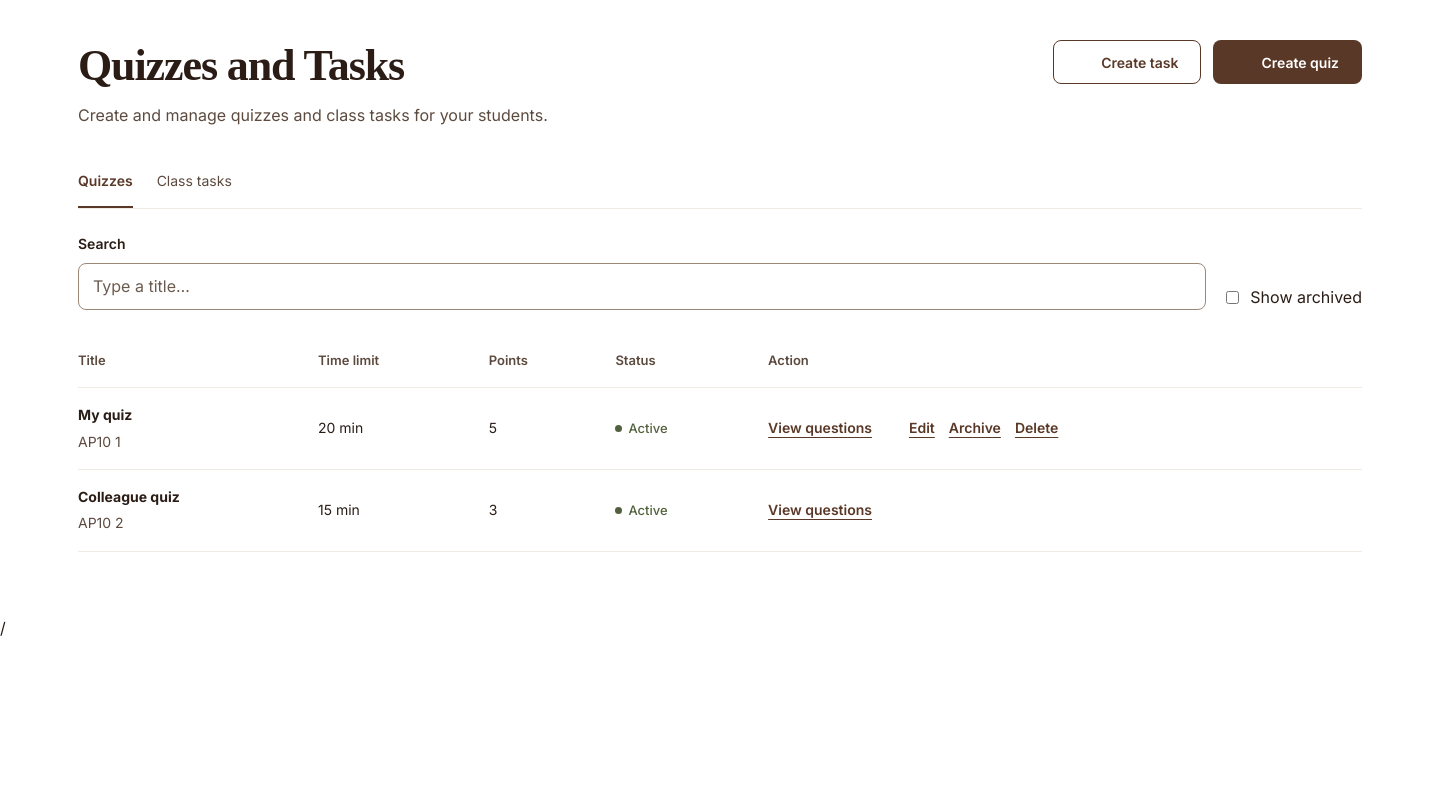
Test: AssessmentsPage › offers to delete submissions too when a task has ungraded work
Expected: the text "My quiz" is shown, [78, 406, 132, 423]
Click the button "Class tasks" at (194,184), box [157, 160, 232, 208]
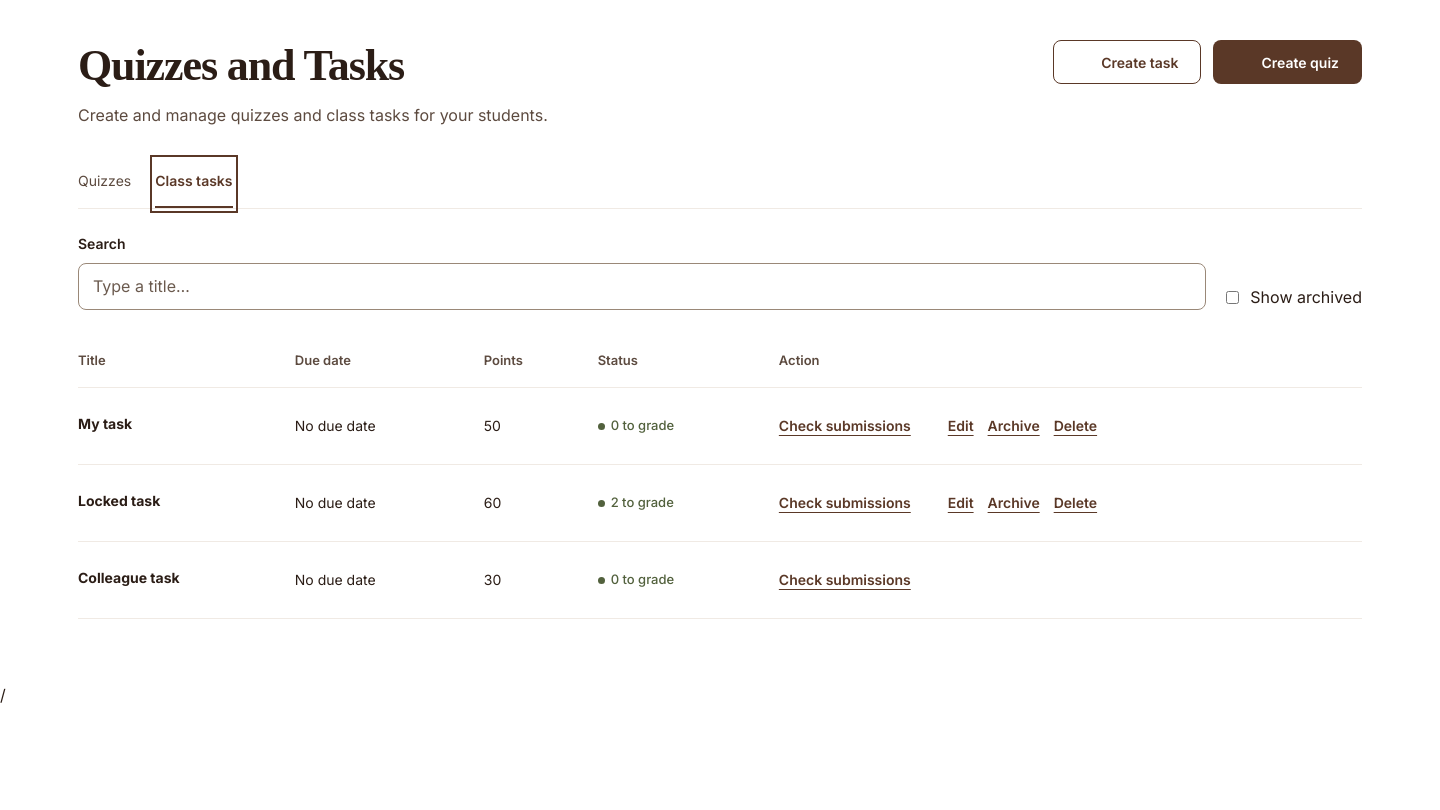
Click the button "Delete" in the row of "Locked task" at (1075,503), box [1054, 481, 1097, 525]
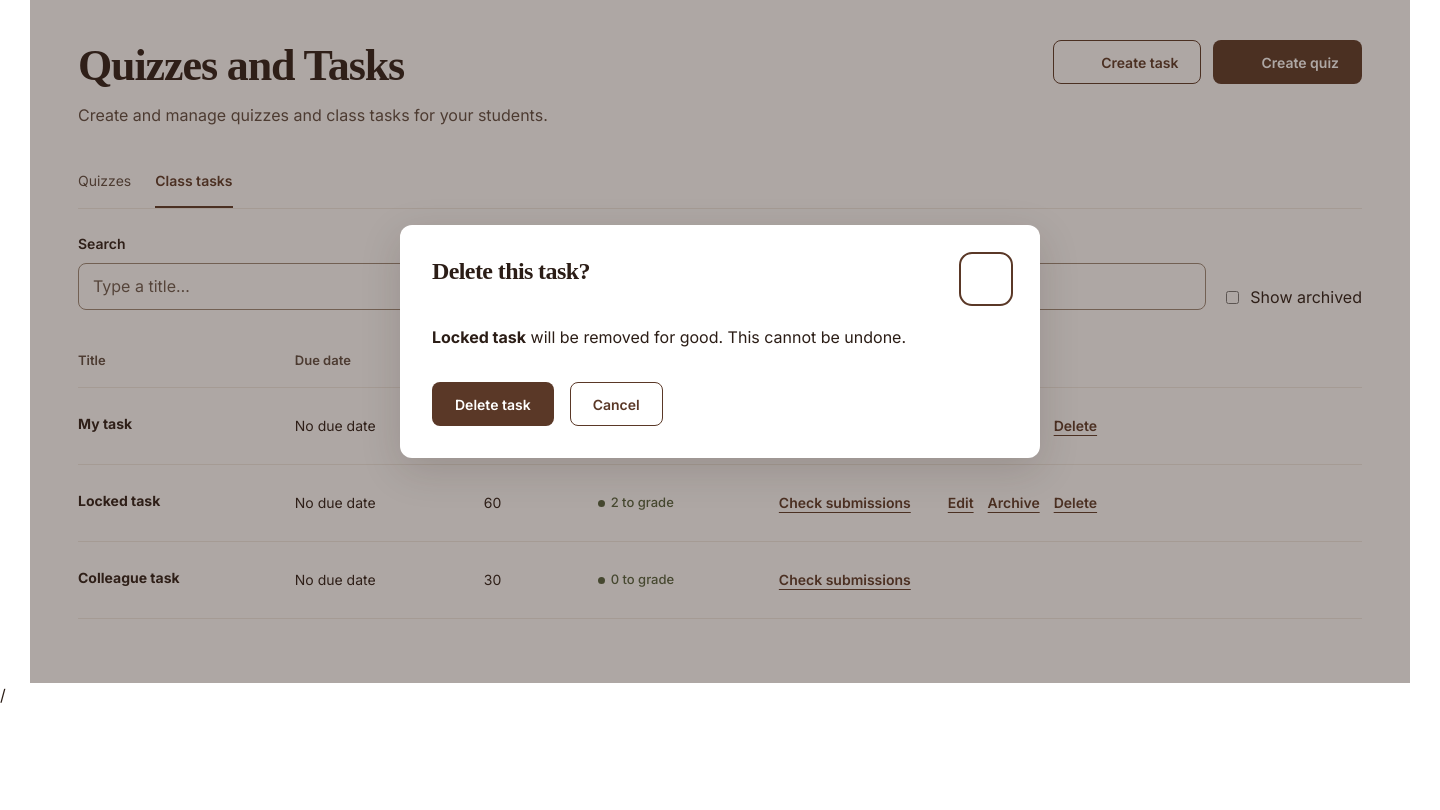
Click the button "Delete task" at (493,404), box [432, 382, 554, 426]
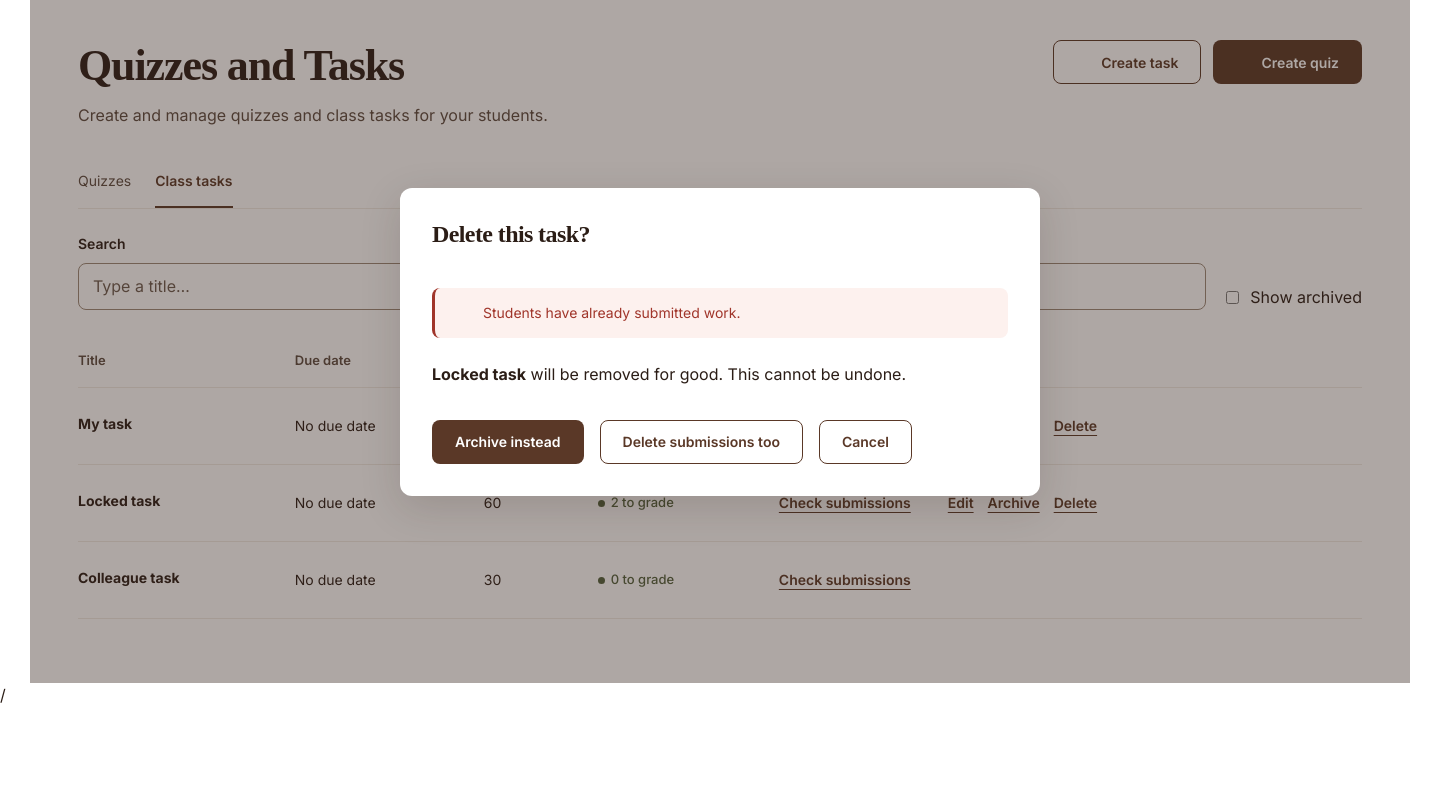
Click the button "Delete submissions too" at (701,442), box [600, 420, 803, 464]
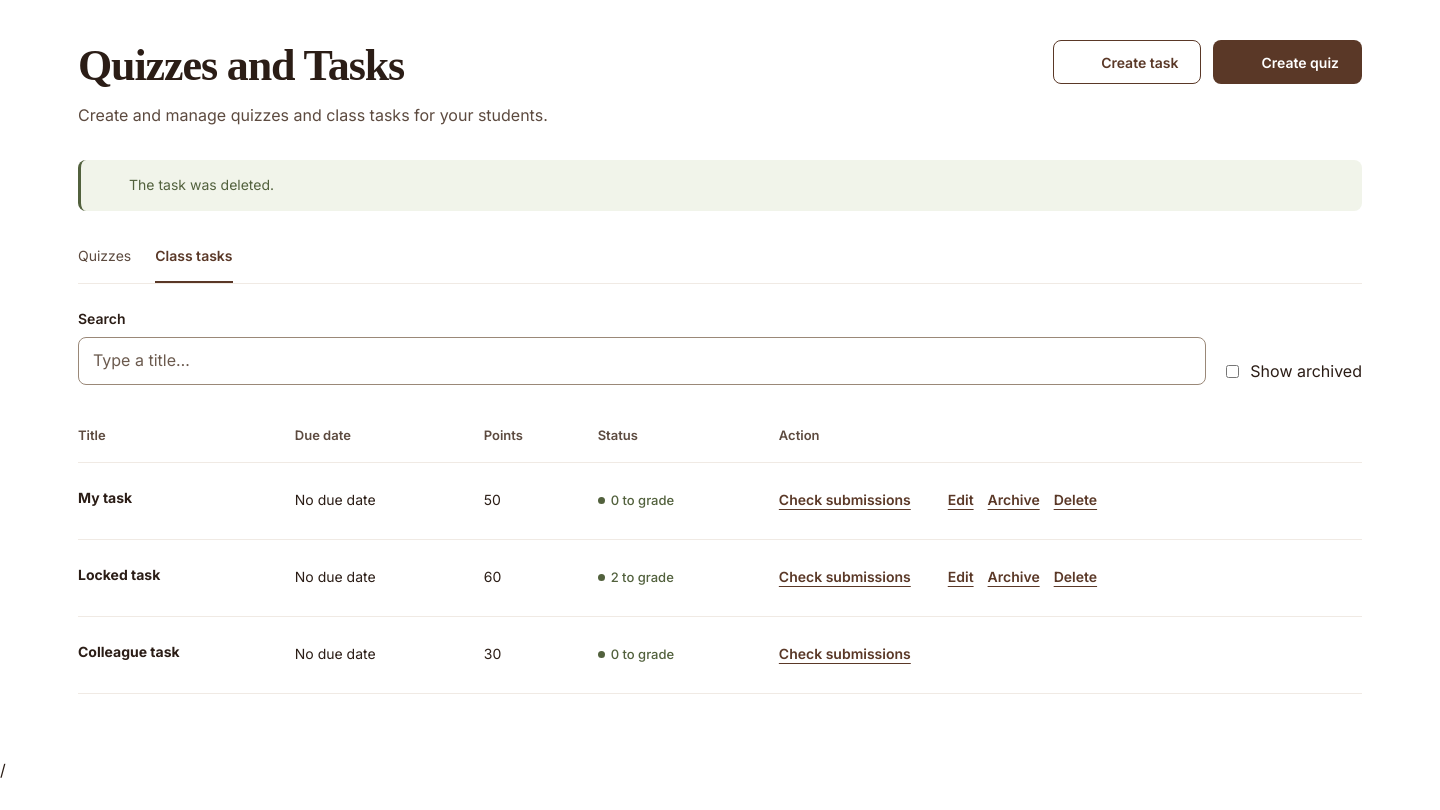
Expected: the text "The task was deleted." is shown, [129, 174, 274, 197]
